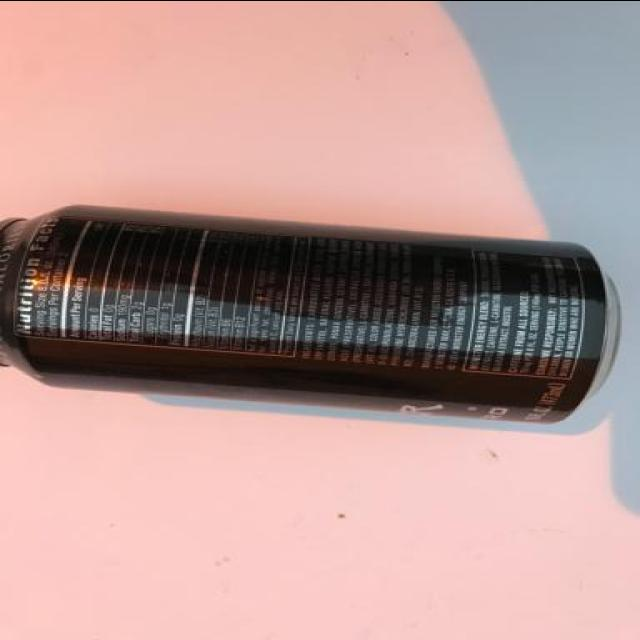Aluminum Can: (0, 207, 623, 438)
